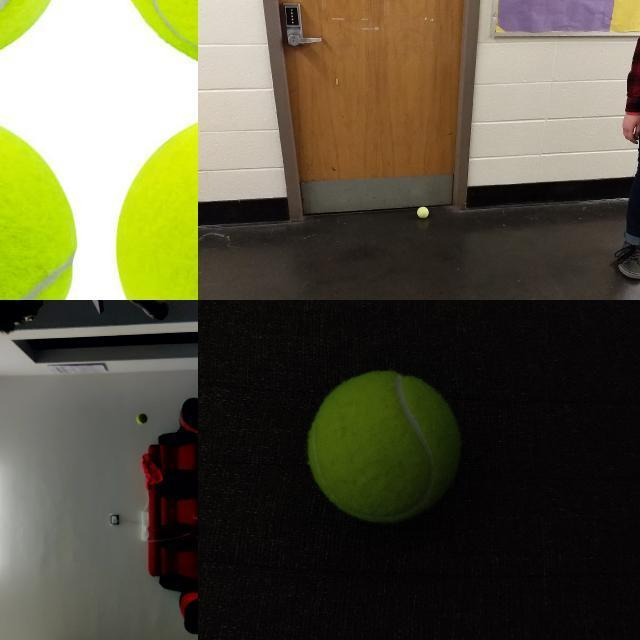tennis-ball: (308, 370, 461, 522), (114, 108, 197, 299), (0, 112, 78, 299), (416, 206, 428, 218), (137, 413, 148, 423)
